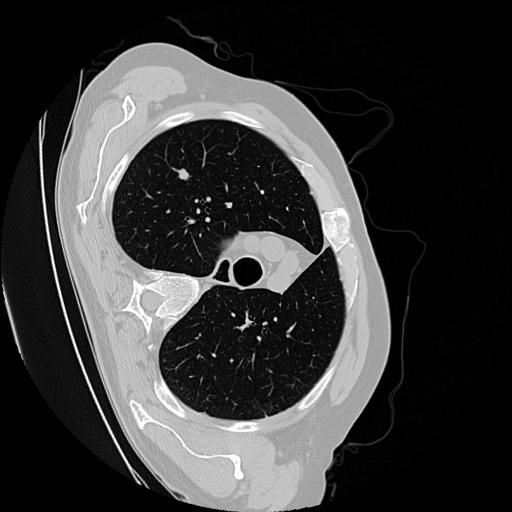nodule: (176, 167, 196, 187)
